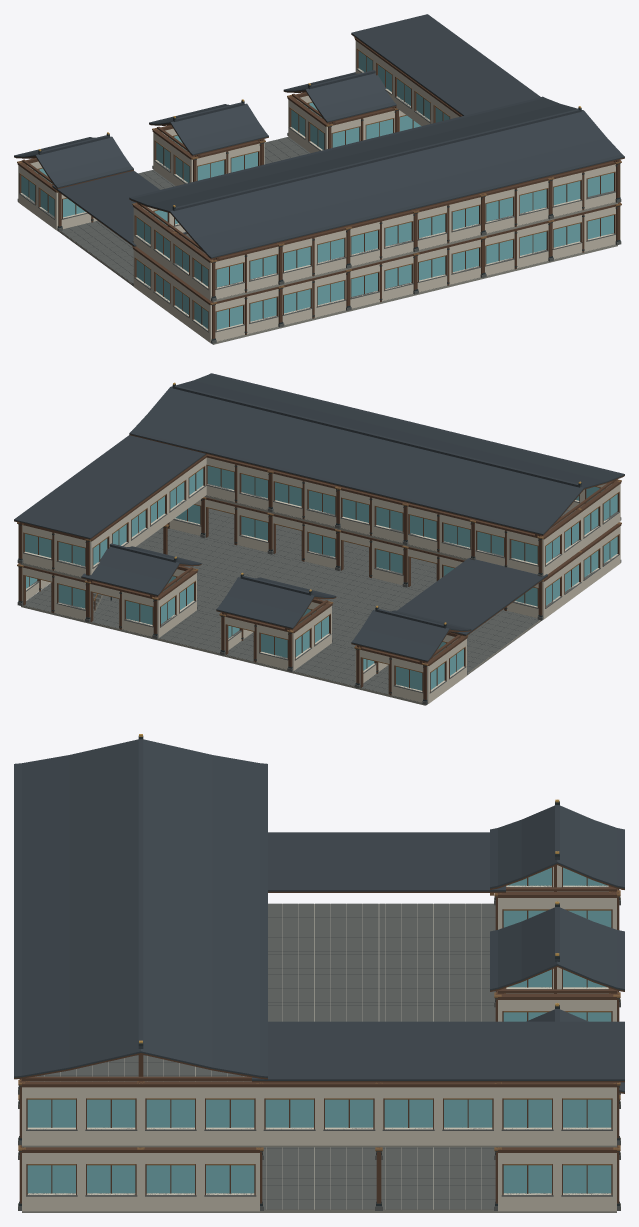
The model's file is visual-far.glb.
3 views of the same model, one above another, from view 1: azimuth 30°, elevation 25°; view 2: azimuth 150°, elevation 25°; view 3: azimuth 270°, elevation 25° (orthographic). The views are drawn at different scales.
Parts seen in each view (by area): view 1: 参数墙 · 独立窗玻璃 (×25), 连续屋面 · gable (×4), 连续屋面 · flat (×2), 石铺面与混凝土楼板 (×3); view 2: 连续屋面 · gable (×4), 参数墙 · 独立窗玻璃 (×16), 石铺面与混凝土楼板 (×18), 参数墙 · 通行门洞 (×10), 连续屋面 · flat (×2); view 3: 连续屋面 · gable (×3), 参数墙 · 独立窗玻璃 (×12), 石铺面与混凝土楼板 (×12), 连续屋面 · flat (×2).
Part boxes in pixels (<box>): 参数墙 · 独立窗玻璃 (×25): <box>17,38,617,342</box>; 连续屋面 · gable (×4): <box>14,70,624,259</box>; 连续屋面 · flat (×2): <box>52,14,540,247</box>; 石铺面与混凝土楼板 (×3): <box>59,137,310,285</box>; 连续屋面 · gable (×4): <box>81,373,624,662</box>; 参数墙 · 独立窗玻璃 (×16): <box>22,454,621,703</box>; 石铺面与混凝土楼板 (×18): <box>21,515,540,705</box>; 参数墙 · 通行门洞 (×10): <box>22,497,538,702</box>; 连续屋面 · flat (×2): <box>14,435,547,636</box>; 连续屋面 · gable (×3): <box>14,734,624,1081</box>; 参数墙 · 独立窗玻璃 (×12): <box>22,865,616,1211</box>; 石铺面与混凝土楼板 (×12): <box>30,903,497,1212</box>; 连续屋面 · flat (×2): <box>252,832,624,1082</box>.
Size of the model in its own units: 36.8 by 9.48 by 30.4.
14 materials, 14 textured.
